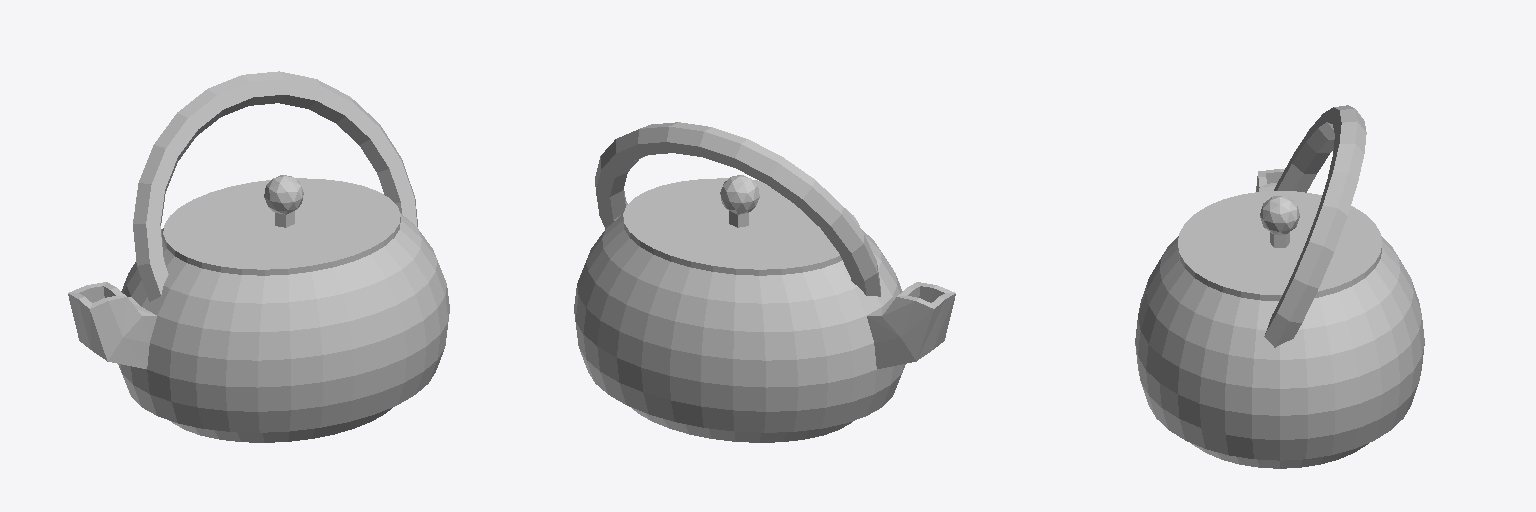
File: teapot.obj
3 renders of one model, left to right at view 1: azimuth 30°, elevation 25°; view 2: azimuth 150°, elevation 25°; view 3: azimuth 270°, elevation 25°, orthographic.
Visible parts, largest first — view 1: Torus.001, Torus.002, Torus.003; view 2: Torus.001, Torus.002, Torus.003; view 3: Torus.001, Torus.002.
Part boxes in pixels (bbox=[...]): Torus.001: bbox=[118, 214, 449, 442]; Torus.002: bbox=[133, 71, 417, 301]; Torus.003: bbox=[68, 282, 156, 368]; Torus.001: bbox=[574, 214, 905, 442]; Torus.002: bbox=[595, 122, 880, 296]; Torus.003: bbox=[867, 282, 955, 368]; Torus.001: bbox=[1135, 236, 1424, 468]; Torus.002: bbox=[1178, 105, 1381, 347].
Bounding box in the file's own units: 0.6794 × 0.5352 × 0.4791.